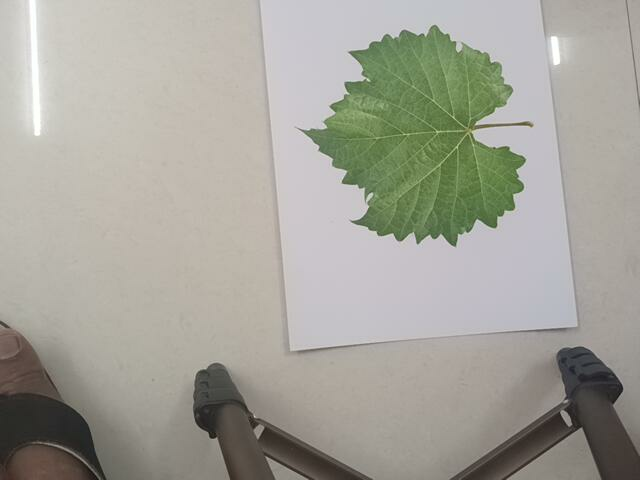Grape_Healthy: (292, 26, 545, 245)
